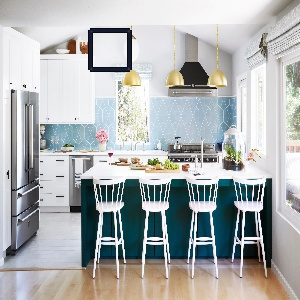square: (85, 24, 135, 74)
